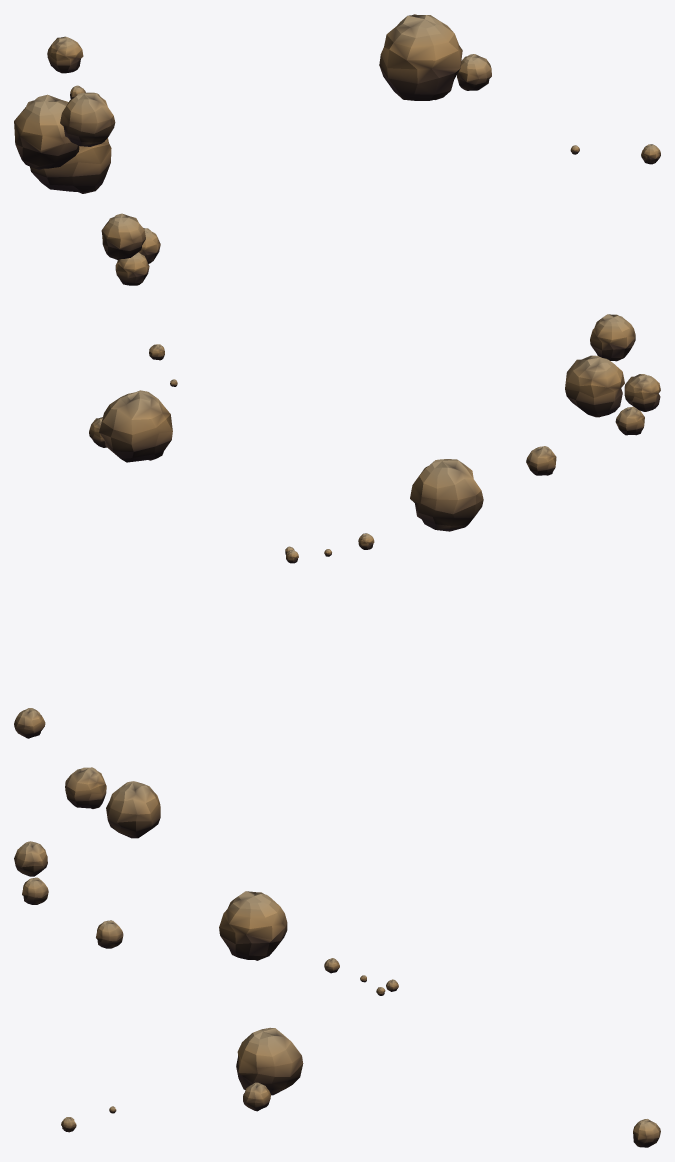
The model's file is level2BoulderWhole_grp.fbx.
The picture shows the model from 3 angles, top to bottom: view 1: azimuth 30°, elevation 25°; view 2: azimuth 150°, elevation 25°; view 3: azimuth 270°, elevation 25°; orthographic projection. The views are drawn at different scales.
Visible parts, largest first — view 1: boulder_15, boulder_09, boulder_08, boulder_10, boulder_13, boulder_07, boulder_14, boulder_12, boulder_11; view 2: boulder_15, boulder_08, boulder_09, boulder_10, boulder_13, boulder_11, boulder_07, boulder_12; view 3: boulder_08, boulder_15, boulder_09, boulder_10, boulder_13, boulder_07, boulder_11, boulder_14, boulder_12.
Boxes of the visible parts, <box> form: boulder_15: <box>379,14,462,100</box>; boulder_09: <box>14,94,79,169</box>; boulder_08: <box>30,138,111,193</box>; boulder_10: <box>60,92,115,146</box>; boulder_13: <box>101,213,145,259</box>; boulder_07: <box>47,36,83,73</box>; boulder_14: <box>457,54,491,90</box>; boulder_12: <box>115,252,149,285</box>; boulder_11: <box>139,228,160,263</box>; boulder_15: <box>99,390,172,462</box>; boulder_08: <box>410,459,483,531</box>; boulder_09: <box>565,355,624,417</box>; boulder_10: <box>590,314,635,361</box>; boulder_13: <box>624,374,660,411</box>; boulder_11: <box>526,446,556,475</box>; boulder_07: <box>14,708,45,738</box>; boulder_12: <box>615,406,644,435</box>; boulder_08: <box>219,891,287,960</box>; boulder_15: <box>236,1027,303,1095</box>; boulder_09: <box>106,781,160,838</box>; boulder_10: <box>65,767,106,808</box>; boulder_13: <box>14,841,47,876</box>; boulder_07: <box>633,1119,660,1147</box>; boulder_11: <box>96,920,123,948</box>; boulder_14: <box>243,1082,270,1111</box>; boulder_12: <box>22,877,48,904</box>.
Size of the model in its own units: 698 by 356 by 834.
